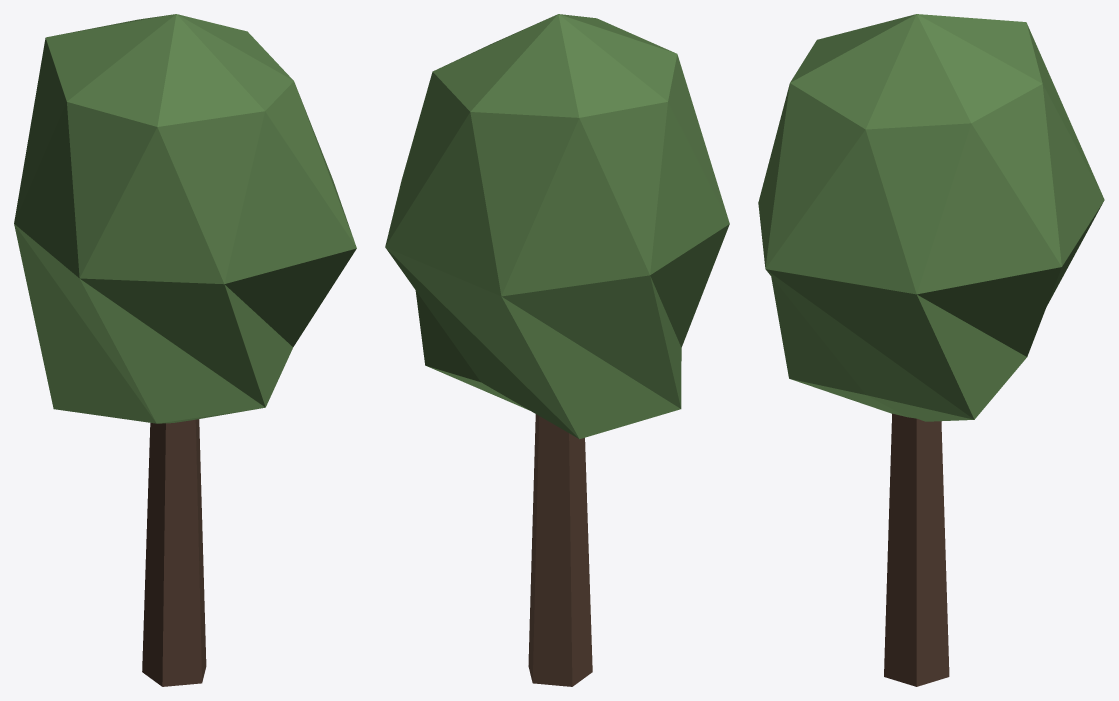
Rendered from tree_elm.glb.
3 views of the same model, side by side, from view 1: azimuth 30°, elevation 25°; view 2: azimuth 150°, elevation 25°; view 3: azimuth 270°, elevation 25° (orthographic).
Visible parts, largest first — view 1: tree_elm_Crown, tree_elm; view 2: tree_elm_Crown, tree_elm; view 3: tree_elm_Crown, tree_elm.
Part boxes in pixels (<box>): tree_elm_Crown: <box>14,14,356,423</box>; tree_elm: <box>142,419,206,686</box>; tree_elm_Crown: <box>385,14,729,439</box>; tree_elm: <box>528,414,592,686</box>; tree_elm_Crown: <box>758,14,1104,421</box>; tree_elm: <box>884,413,949,686</box>.
Size of the model in its own units: 2.14 by 4.64 by 2.21.
